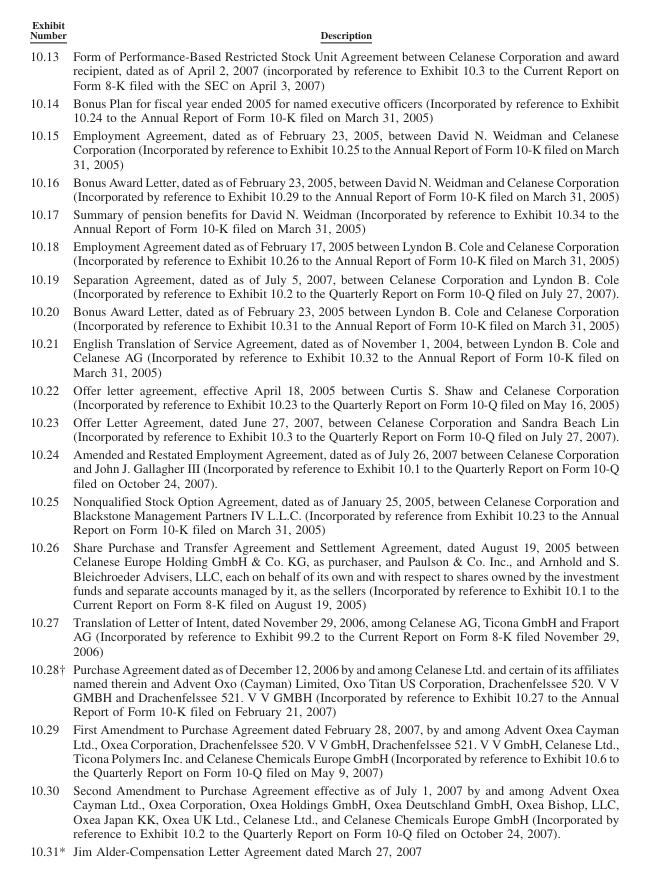table: (29, 28, 618, 857)
table column: (69, 28, 618, 857), (29, 28, 69, 857)
table column header: (29, 28, 618, 44)
table row: (29, 537, 618, 612), (29, 659, 618, 720), (29, 780, 618, 841), (29, 720, 618, 780), (29, 44, 618, 93), (29, 125, 618, 172), (29, 333, 618, 380), (29, 444, 618, 491), (29, 612, 618, 659), (29, 491, 618, 537), (29, 236, 618, 269), (29, 93, 618, 125), (29, 172, 618, 204), (29, 204, 618, 236), (29, 269, 618, 301), (29, 301, 618, 333), (29, 380, 618, 412), (29, 412, 618, 444), (29, 28, 618, 44), (29, 841, 618, 857)
